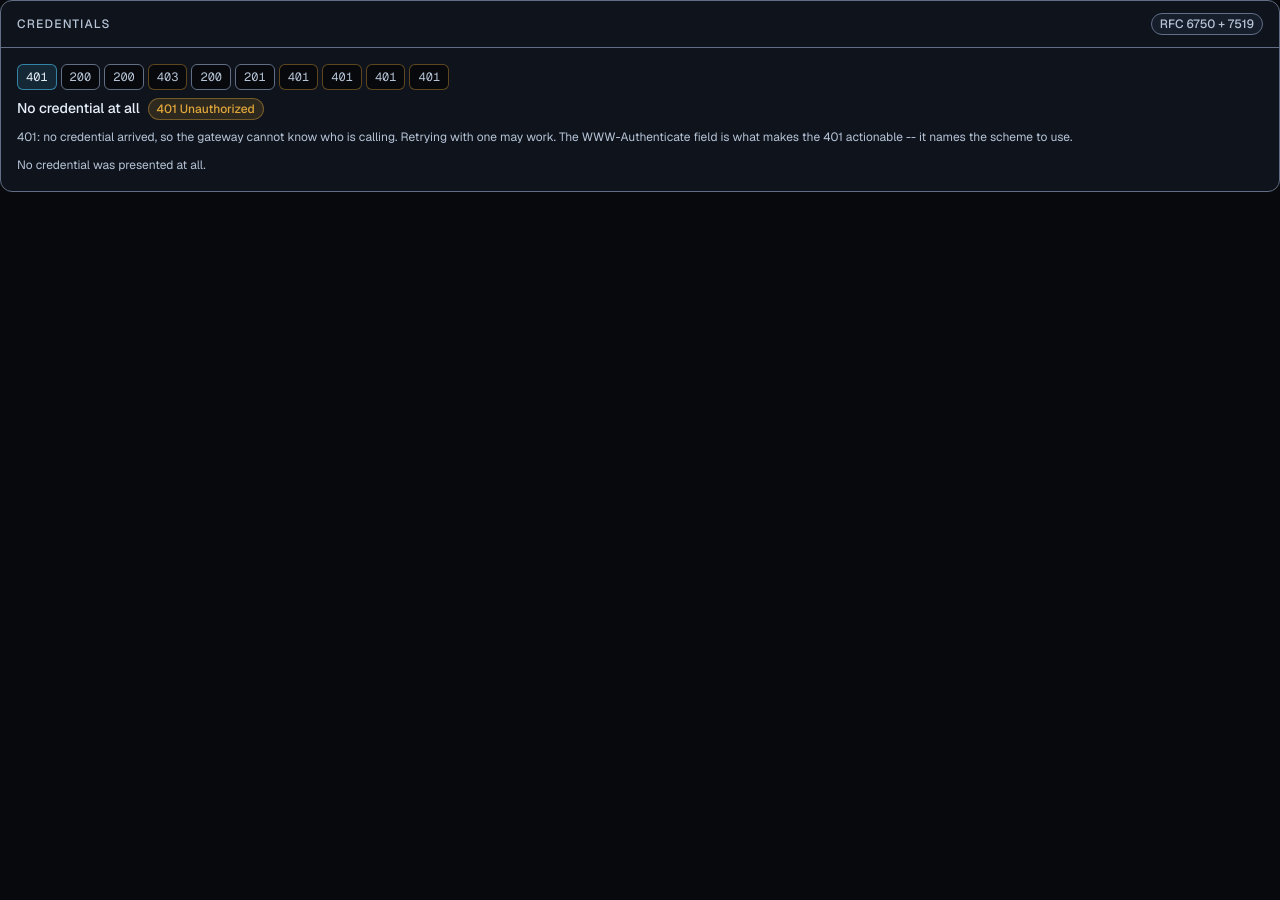
Test case: the credential view › names which check failed rather than saying the token is invalid
What coordinates should you click on to do the following:
click the button named "Bearer token, expired"
I would click on:
 (298, 77)
Its box is top-left (279, 64), bottom-right (318, 90).
(page scrolled)
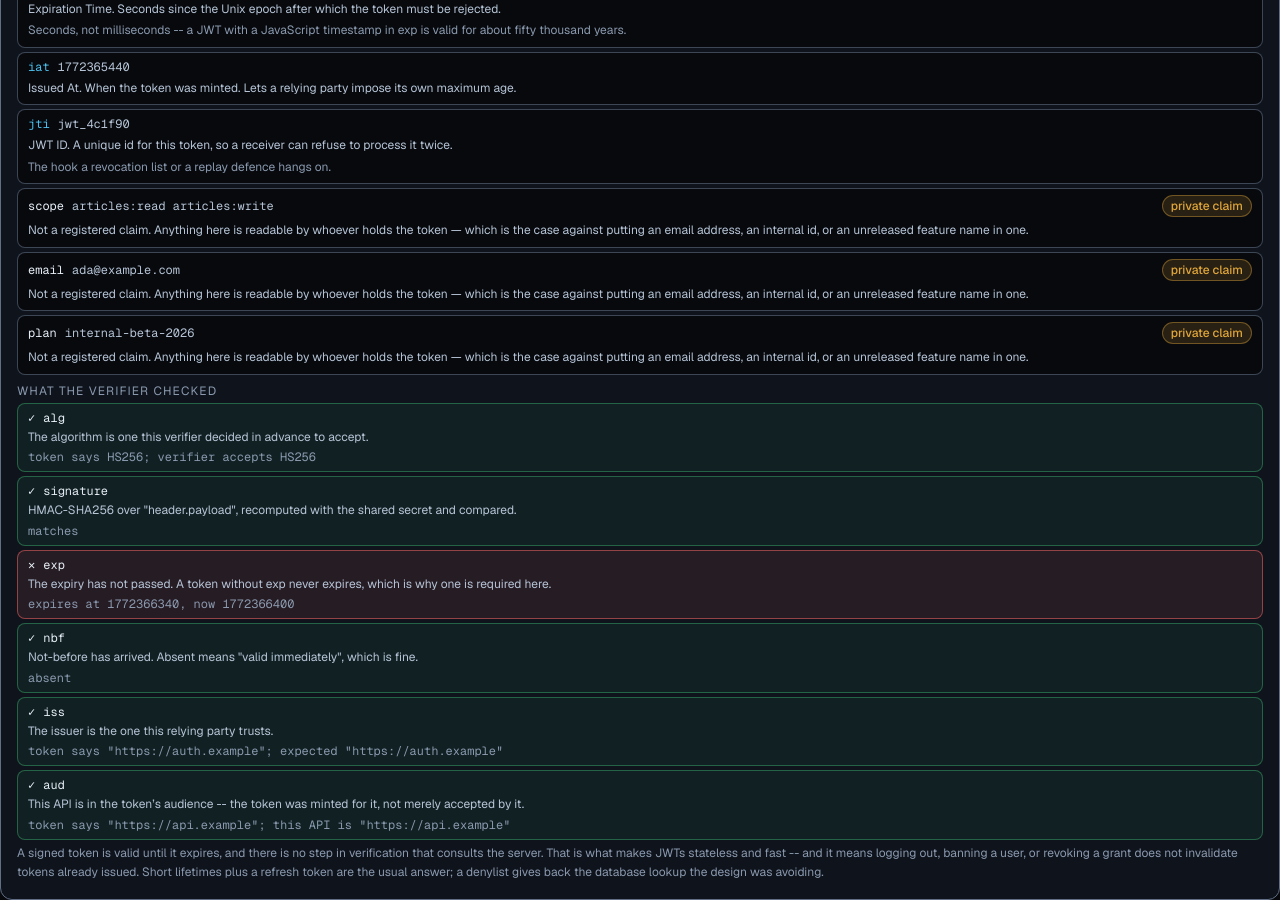
Now the text "exp" is shown 2 times
Now the text "signature" is shown, box top-left (43, 483), bottom-right (108, 499)
Now the text "✕" is shown, box top-left (28, 556), bottom-right (35, 572)
